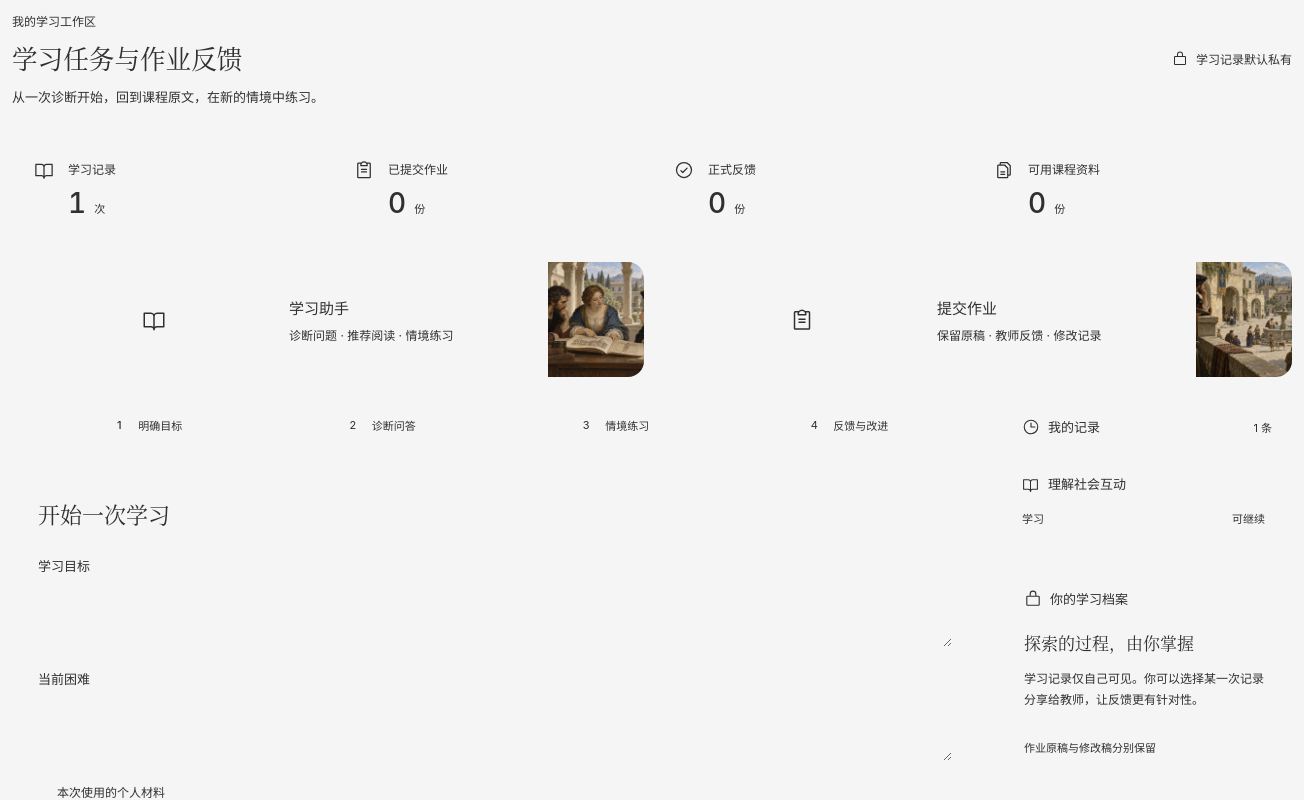
opens a validated recommendation through the activity source endpoint
What coordinates should you click on to do the following:
click the button "理解社会互动 学习 可继续"
I would click on:
 (1087, 484)
Its box is [1002, 456, 1292, 547].
(page scrolled)
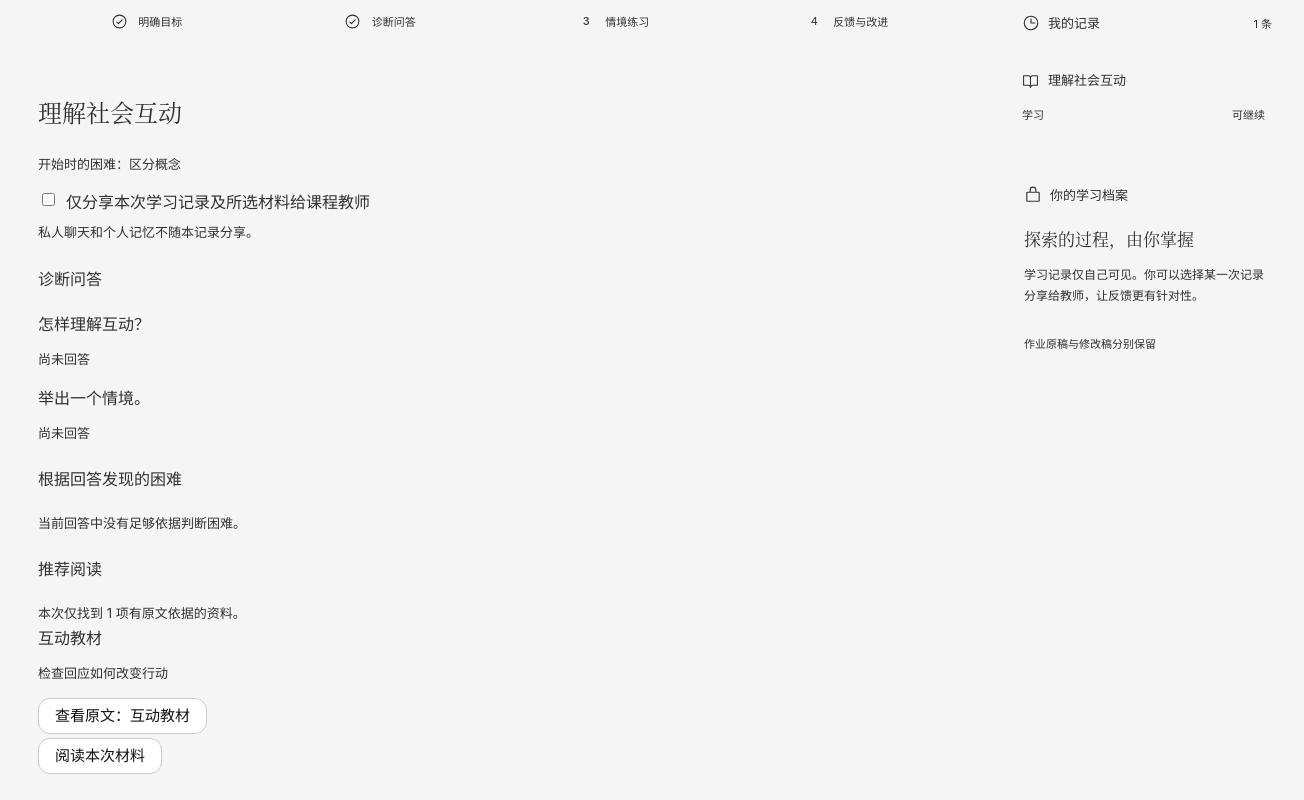
What coordinates should you click on to do the following:
click the button "查看原文：互动教材"
I would click on:
 (122, 716)
Its box is [38, 698, 207, 734].
(page scrolled)
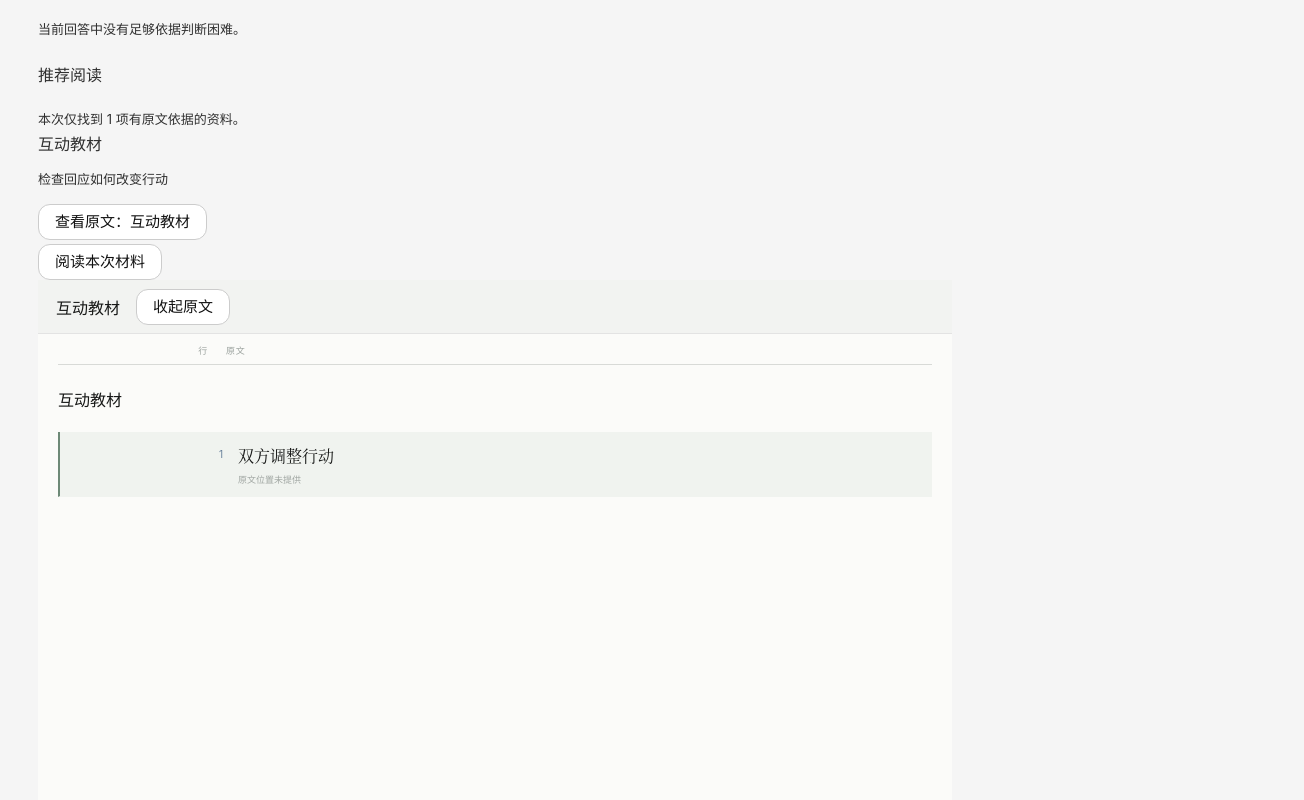
Now the element named "文档阅读器" shows "双方调整行动", box [238, 444, 334, 467]
